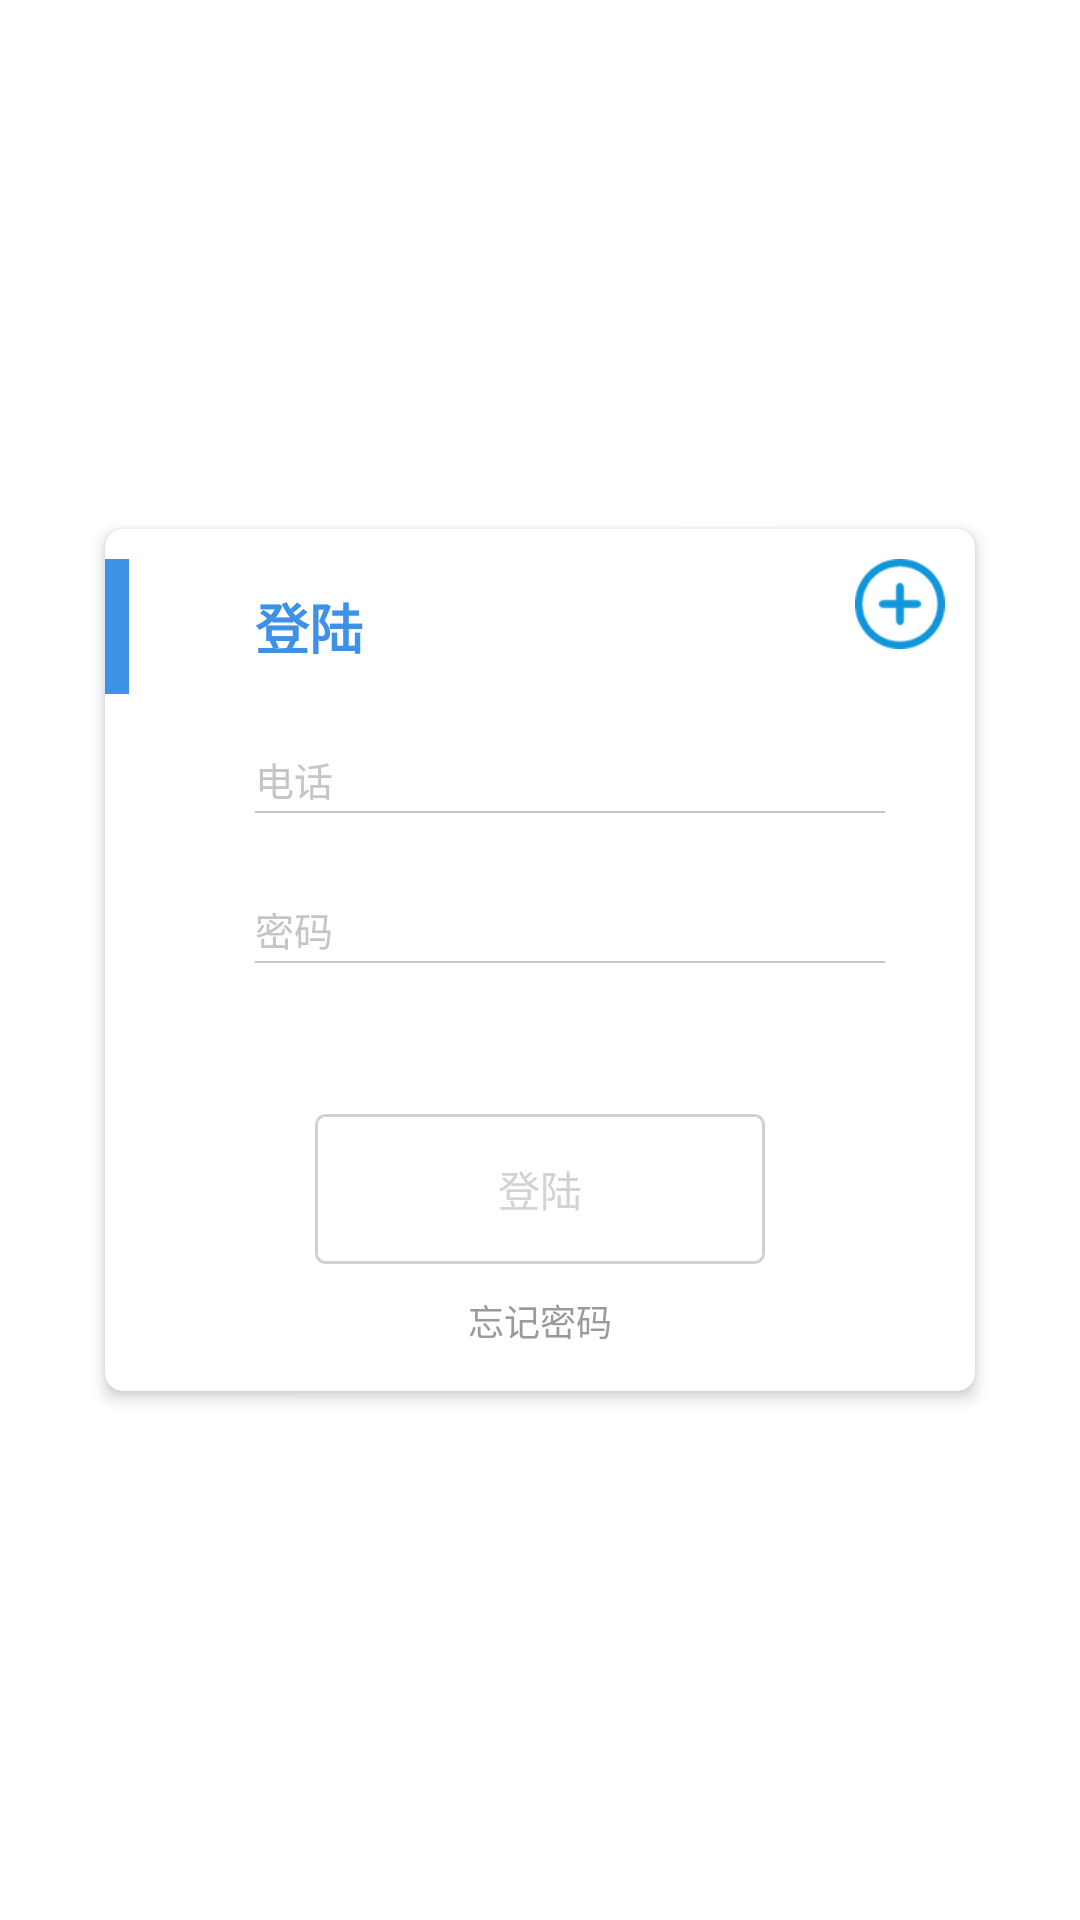

Named icons in this screenshot (1080×1920) and their centers, [x,y]:
add account: [900,604]
